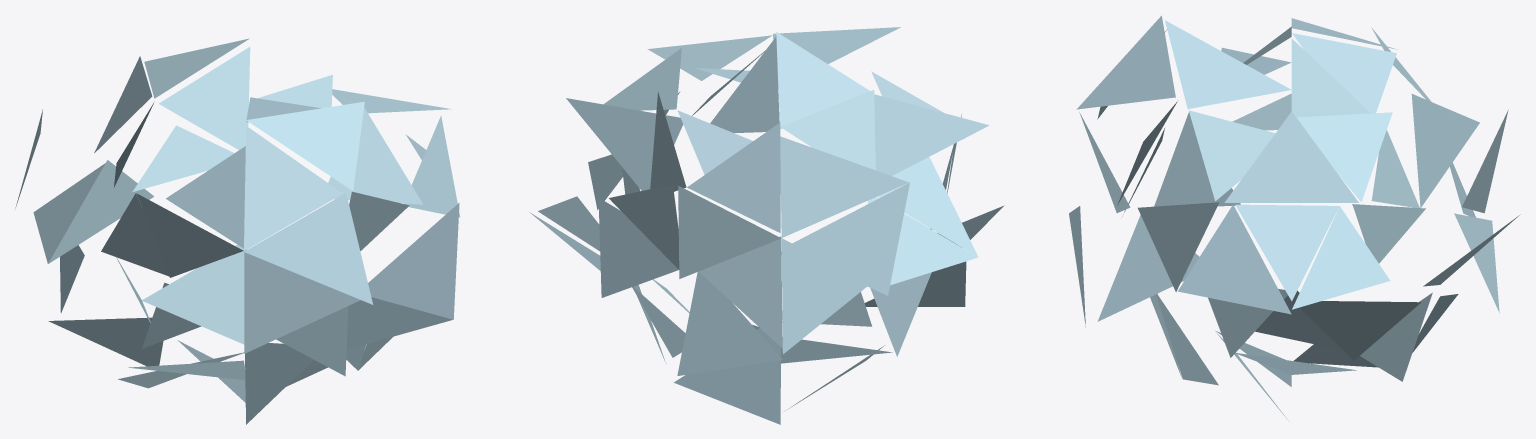
The model's file is ice.glb.
3 renders of one model, left to right at view 1: azimuth 30°, elevation 25°; view 2: azimuth 150°, elevation 25°; view 3: azimuth 270°, elevation 25°, orthographic. The views are drawn at different scales.
Parts seen in each view (by area): view 1: ice; view 2: ice; view 3: ice.
Part boxes in pixels (x1,y1,x2,y2): ice: (15,38,460,424); ice: (529,27,1004,424); ice: (1069,15,1520,420).
Bounding box in the file's own units: 2.35 × 2.07 × 2.36.
